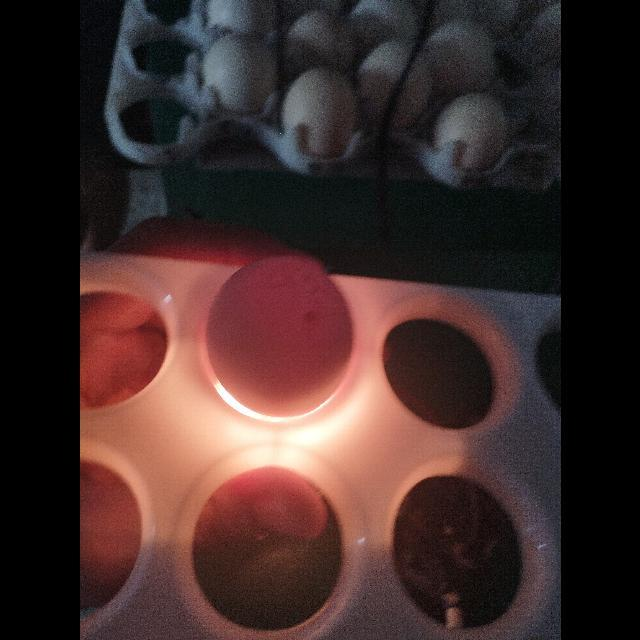Fertile: (202, 252, 358, 426)
